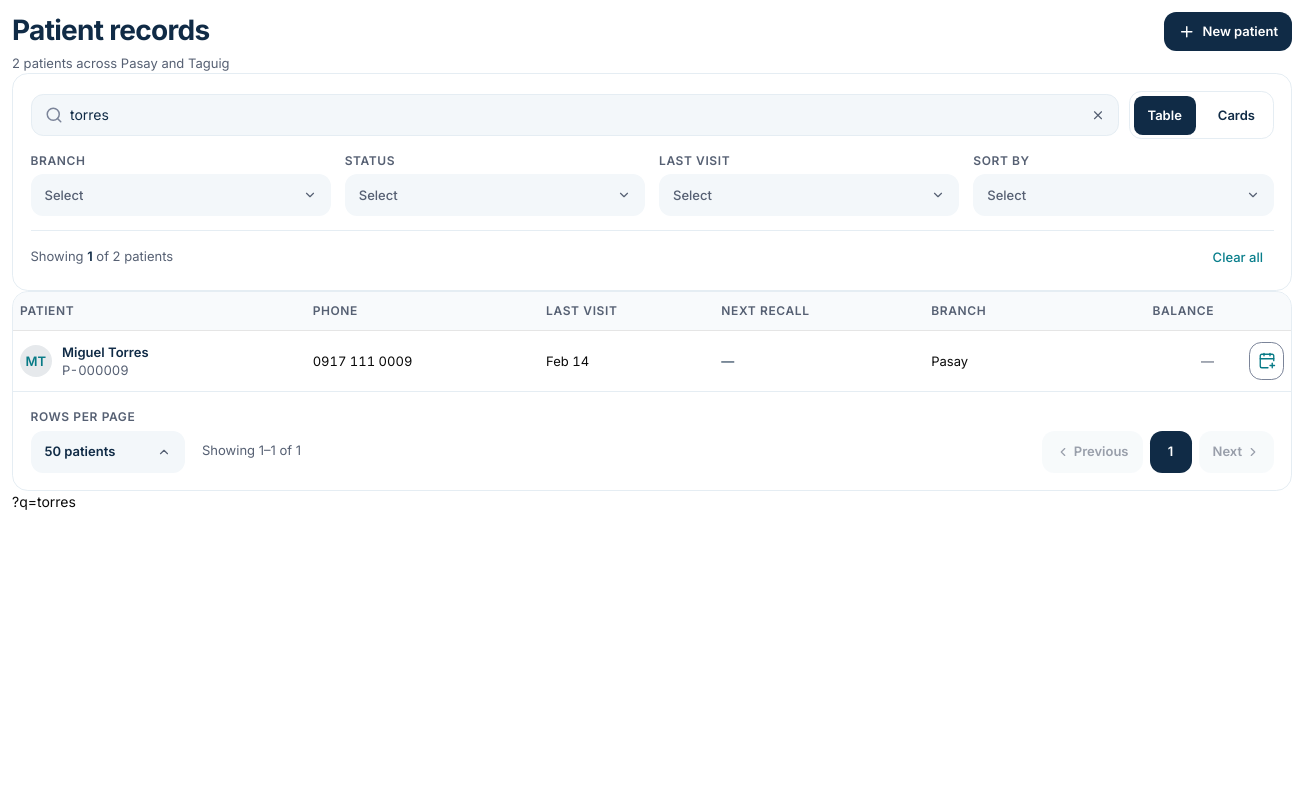
Test: Patient records opened with a search in the address › shows only matches, fills the search box with it, and can be cleared
The width and height of the screenshot is (1304, 812).
Expected: the text "Miguel Torres" is shown, [62,342,148,361]
Expected: the text "Ana Reyes" is not shown
Step 1. Click the button named "Clear search" → click(1098, 115), box [1082,99,1113,131]
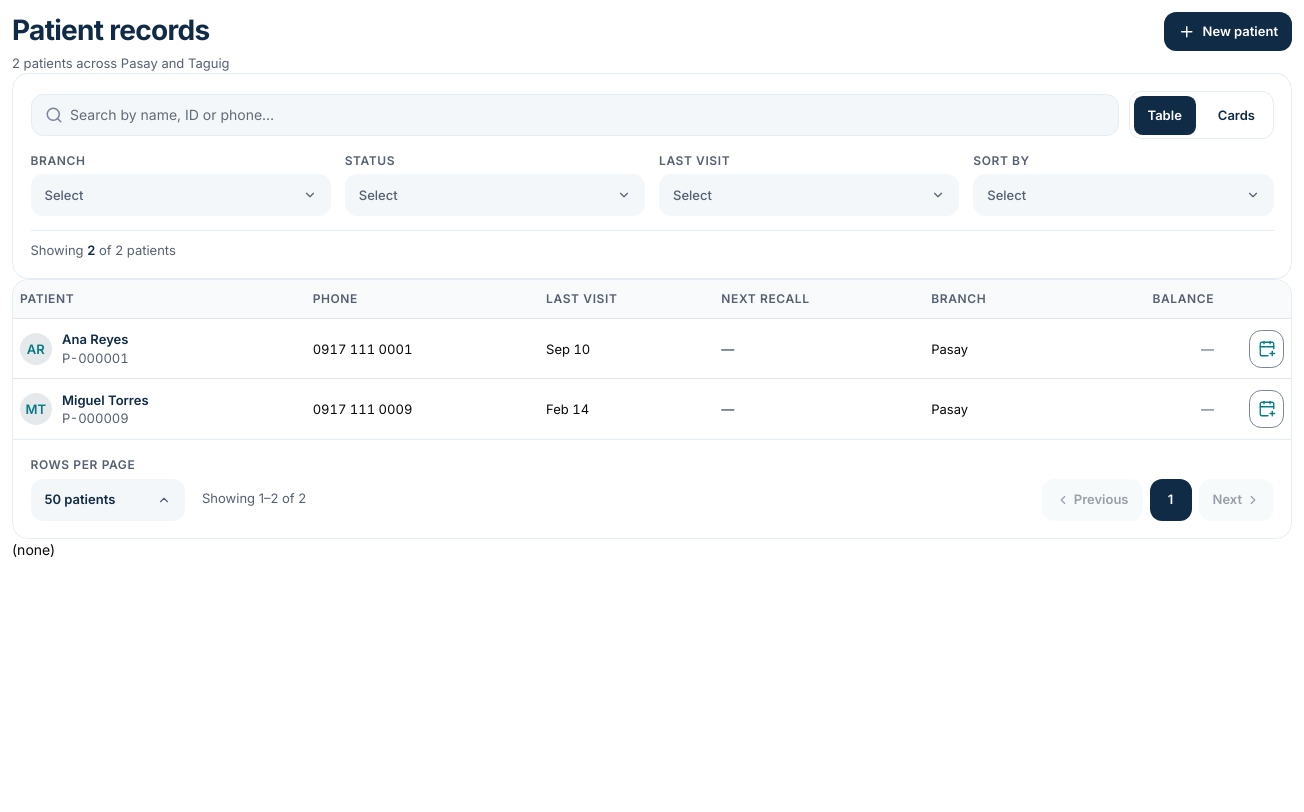
Result: the text "Ana Reyes" is shown at [62,330,129,349]
Result: the text with test id "address" reads "(none)" at [12,541,55,558]
